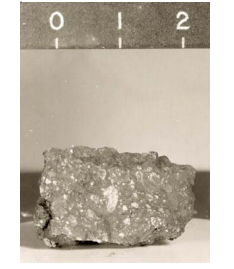Breccia: (22, 135, 204, 254)
